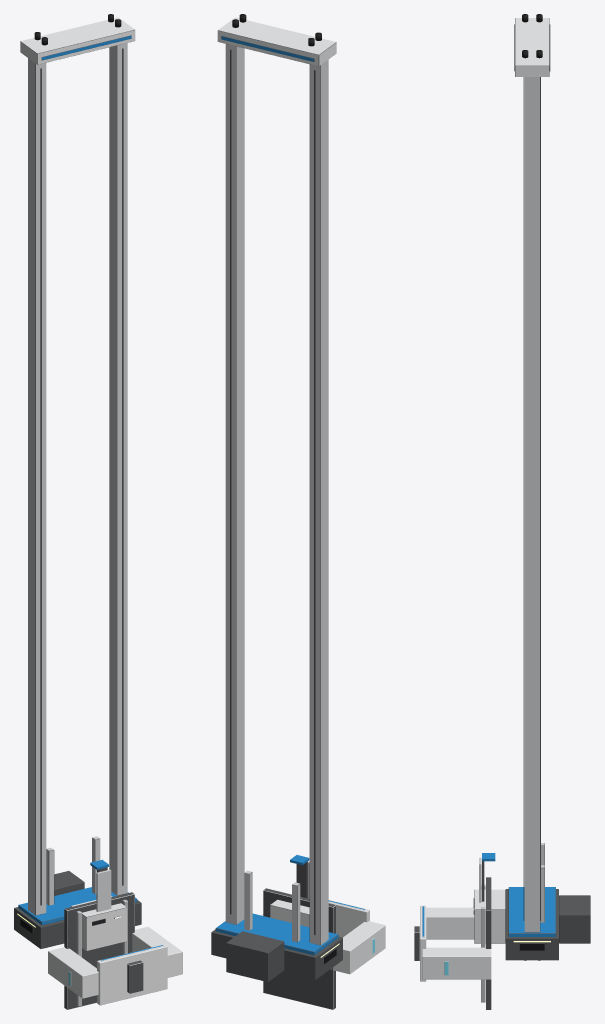
The model's file is airrob_unit.fbx.
3 views of the same model, side by side, from view 1: azimuth 30°, elevation 25°; view 2: azimuth 150°, elevation 25°; view 3: azimuth 270°, elevation 25° (orthographic). The views are drawn at different scales.
Visible parts, largest first — view 1: AirRobUnit_Body, Carriage_Body, HookMid_Body; view 2: AirRobUnit_Body, Carriage_Body, Hook_Body; view 3: AirRobUnit_Body, Carriage_Body.
Part boxes in pixels (<box>): AirRobUnit_Body: <box>14,17,141,950</box>; Carriage_Body: <box>48,892,182,1009</box>; HookMid_Body: <box>96,869,111,911</box>; AirRobUnit_Body: <box>211,17,342,981</box>; Carriage_Body: <box>261,888,385,1009</box>; Hook_Body: <box>290,855,309,898</box>; AirRobUnit_Body: <box>473,18,590,960</box>; Carriage_Body: <box>414,877,491,1009</box>.
Size of the model in its own units: 0.756 by 6.74 by 1.12.
